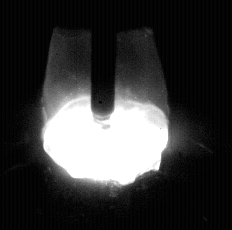arame: (91, 0, 116, 120)
poca: (41, 0, 169, 230)
